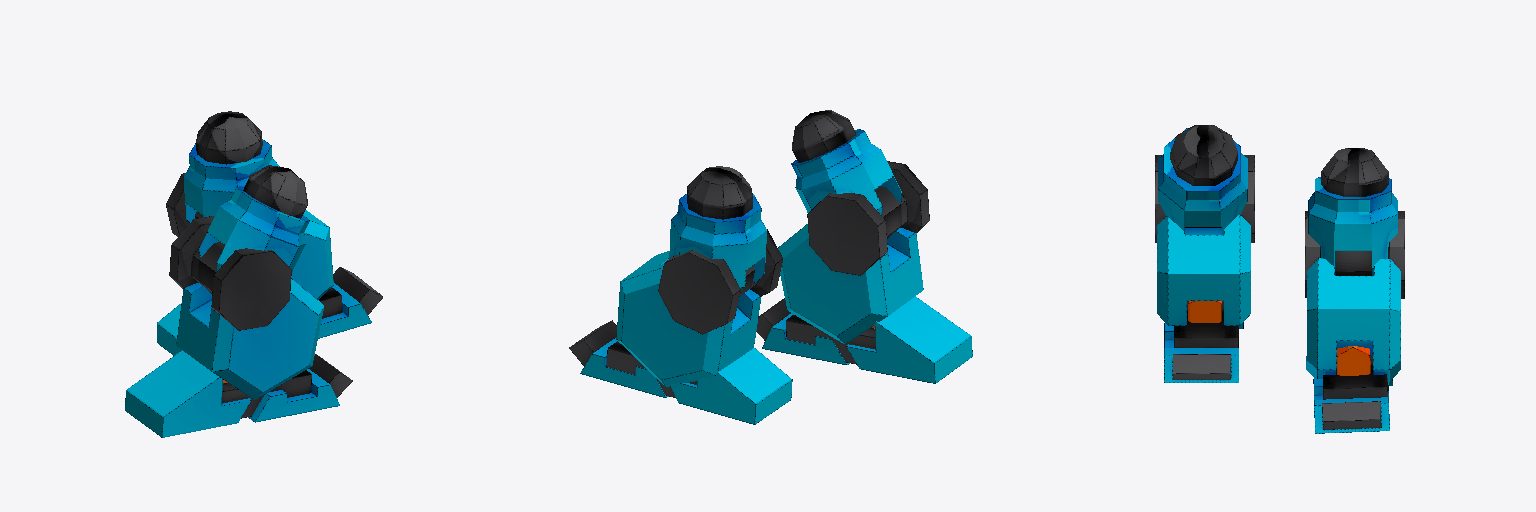
3 renders of one model, left to right at view 1: azimuth 30°, elevation 25°; view 2: azimuth 150°, elevation 25°; view 3: azimuth 270°, elevation 25°, orthographic.
Parts seen in each view (by area): view 1: Object013, Object014, Object012, Object009, Object011, Object010; view 2: Object013, Object010, Object014, Object011, Object009, Object012; view 3: Object010, Object013, Object009, Object012, Object011, Object014.
Part boxes in pixels (bbox=[...]): Object013: bbox=[169, 216, 324, 399]; Object014: bbox=[125, 350, 352, 437]; Object012: bbox=[199, 165, 309, 271]; Object009: bbox=[184, 111, 279, 222]; Object011: bbox=[157, 267, 382, 355]; Object010: bbox=[166, 173, 333, 299]; Object013: bbox=[778, 161, 929, 343]; Object010: bbox=[616, 229, 782, 387]; Object014: bbox=[756, 296, 972, 383]; Object011: bbox=[569, 320, 792, 424]; Object009: bbox=[669, 166, 766, 290]; Object012: bbox=[791, 110, 901, 215]; Object010: bbox=[1305, 211, 1404, 381]; Object013: bbox=[1155, 155, 1254, 325]; Object009: bbox=[1308, 148, 1397, 275]; Object012: bbox=[1158, 125, 1247, 233]; Object011: bbox=[1313, 346, 1392, 433]; Object014: bbox=[1164, 301, 1243, 382].
Bounding box in the file's own units: 130 × 100 × 94.65.
Materials: 1 (1 with a texture image).